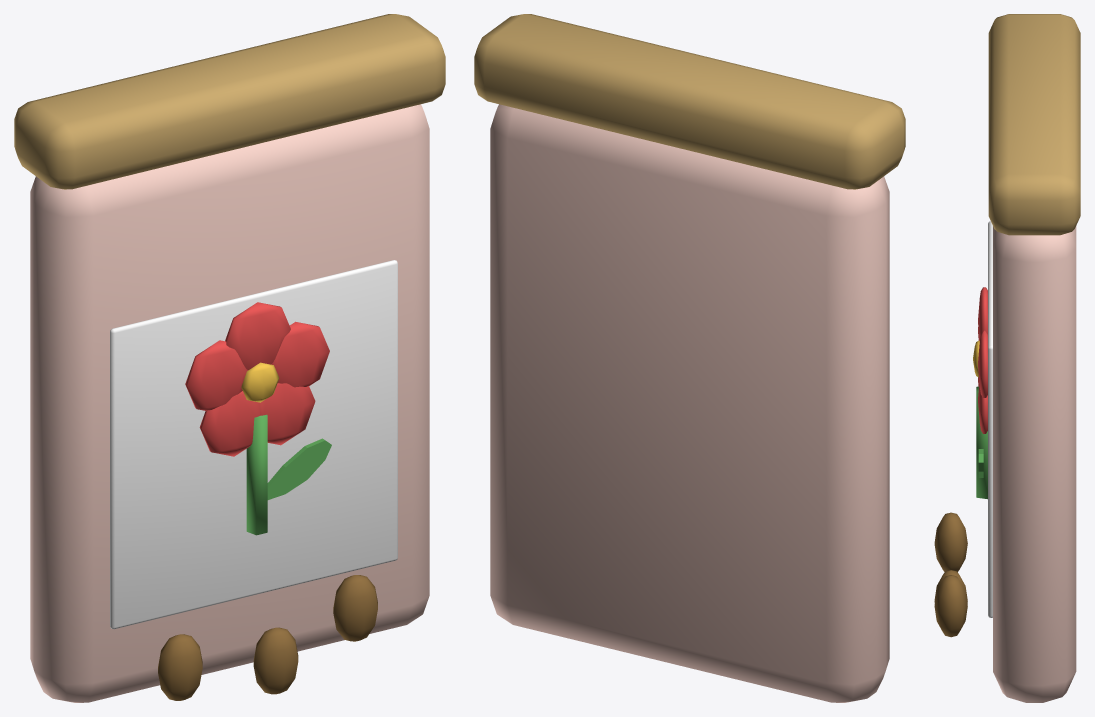
The model's file is seed-bag.glb.
The picture shows the model from 3 angles, left to right: view 1: azimuth 30°, elevation 25°; view 2: azimuth 150°, elevation 25°; view 3: azimuth 270°, elevation 25°; orthographic projection. The views are drawn at different scales.
Visible parts, largest first — view 1: seed; view 2: seed; view 3: seed.
Part boxes in pixels (x1,y1,x2,y2): seed: (14, 14, 445, 702); seed: (474, 14, 905, 702); seed: (934, 14, 1080, 702).
Bounding box in the file's own units: 0.25 × 0.355 × 0.0875.
